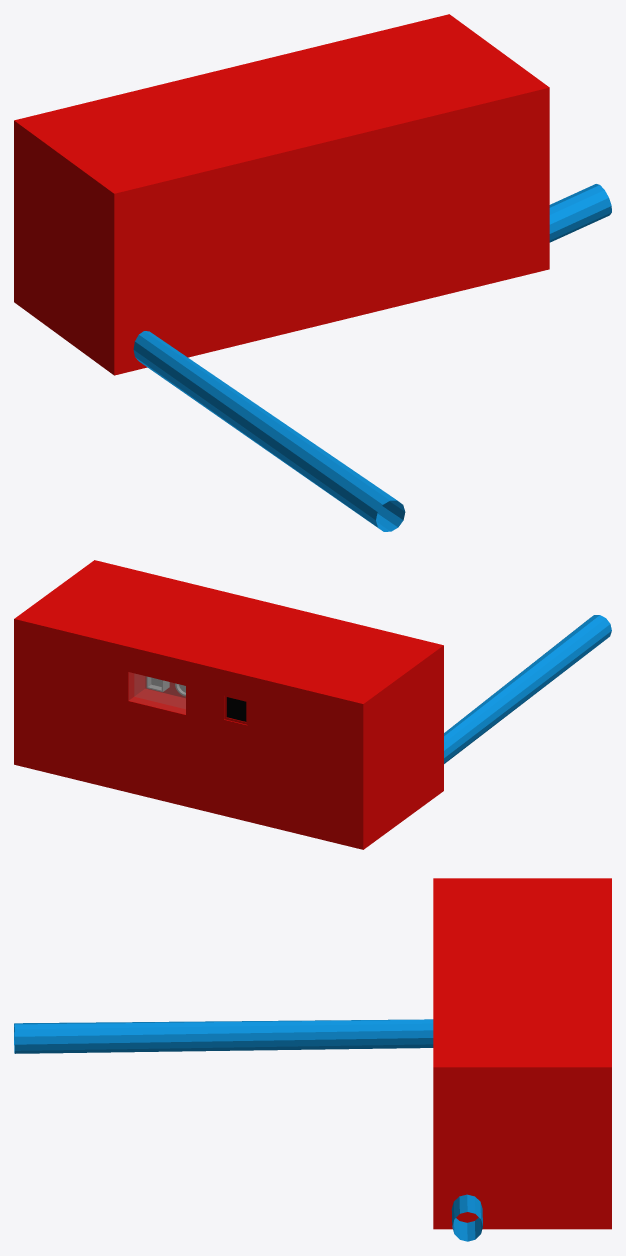
Rendered from generatorO2.fbx.
3 renders of one model, top to bottom at view 1: azimuth 30°, elevation 25°; view 2: azimuth 150°, elevation 25°; view 3: azimuth 270°, elevation 25°, orthographic. The views are drawn at different scales.
Parts seen in each view (by area): view 1: Cube, Cube.001; view 2: Cube, Cube.001, Cube.002, Cube.003; view 3: Cube, Cube.001.
Boxes of the visible parts, x1,y1,x2,y2 form: Cube: (14,14,549,375); Cube.001: (133,184,611,531); Cube: (14,560,443,849); Cube.001: (444,615,611,763); Cube.002: (129,672,185,714); Cube.003: (226,697,246,721); Cube: (433,878,611,1229); Cube.001: (14,1019,482,1241).
Size of the model in its own units: 648 by 221 by 738.
